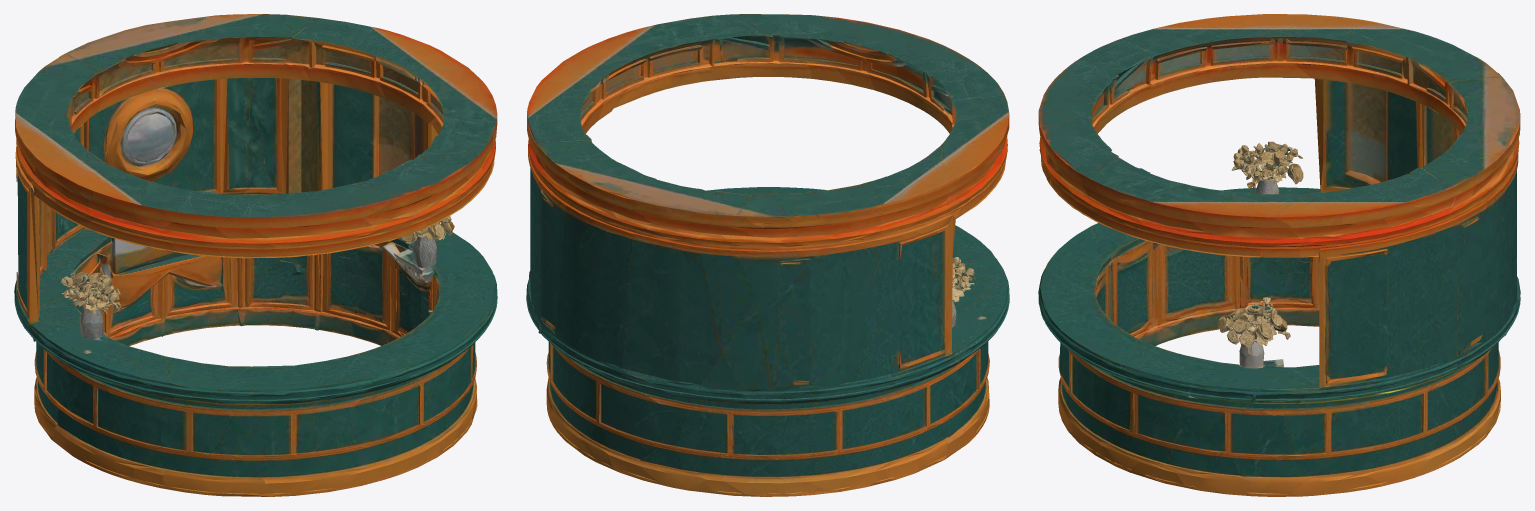
File: mx_hh_reception.glb
3 renders of one model, left to right at view 1: azimuth 30°, elevation 25°; view 2: azimuth 150°, elevation 25°; view 3: azimuth 270°, elevation 25°, orthographic.
Size of the model in its own units: 1.9 by 1.26 by 1.9.
1 material, 1 textured.
